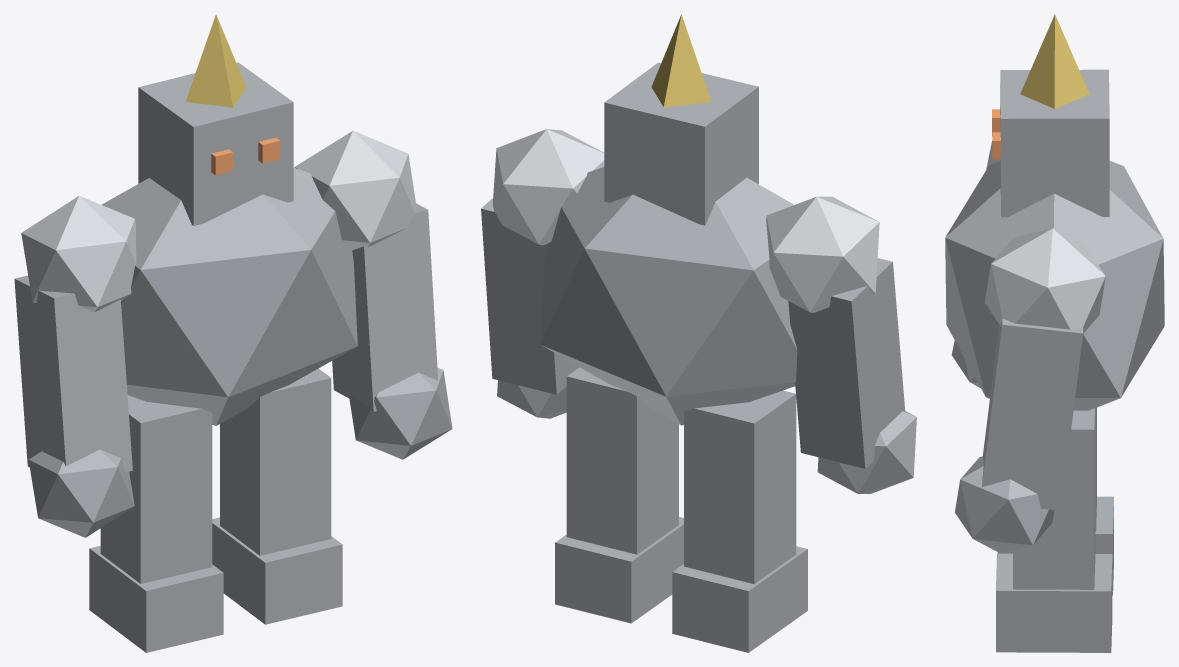
The model's file is npcpose_golem_idle_07.glb.
The picture shows the model from 3 angles, left to right: view 1: azimuth 30°, elevation 25°; view 2: azimuth 150°, elevation 25°; view 3: azimuth 270°, elevation 25°; orthographic projection.
Parts seen in each view (by area): view 1: npcpose; view 2: npcpose; view 3: npcpose.
Boxes of the visible parts, box(x1,y1,x2,y2) form: npcpose: box(14, 14, 452, 652); npcpose: box(481, 14, 916, 652); npcpose: box(945, 14, 1164, 652).
Bounding box in the file's own units: 1.38 × 1.92 × 0.6465.
